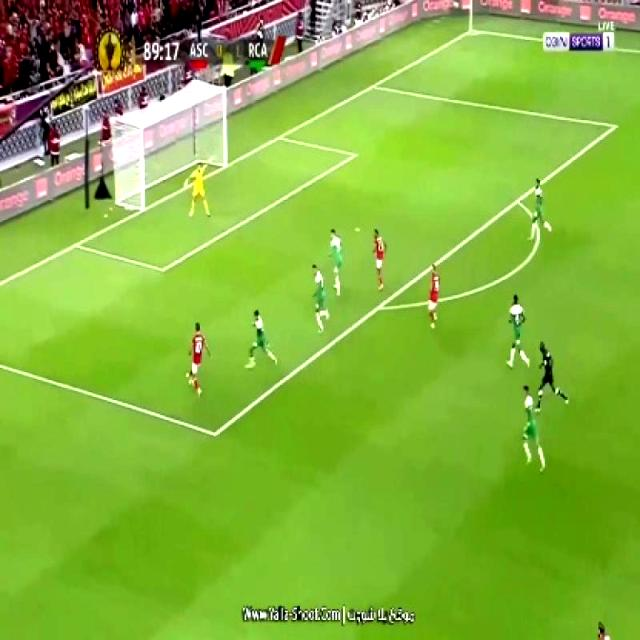bigarea_bottom_inner: (205, 420, 223, 448)
bigarea_top_inner: (608, 117, 620, 135)
bigarea_top_outter: (366, 80, 377, 94)
bottom_arc_area_intersection: (372, 298, 383, 316)
corner: (464, 26, 479, 36)
smallarea_bottom_inner: (156, 257, 170, 280)
smallarea_bottom_outter: (69, 236, 81, 254)
smallarea_top_inner: (348, 148, 358, 162)
smallarea_top_outter: (274, 130, 284, 144)
top_arc_area_intersection: (512, 192, 523, 208)
